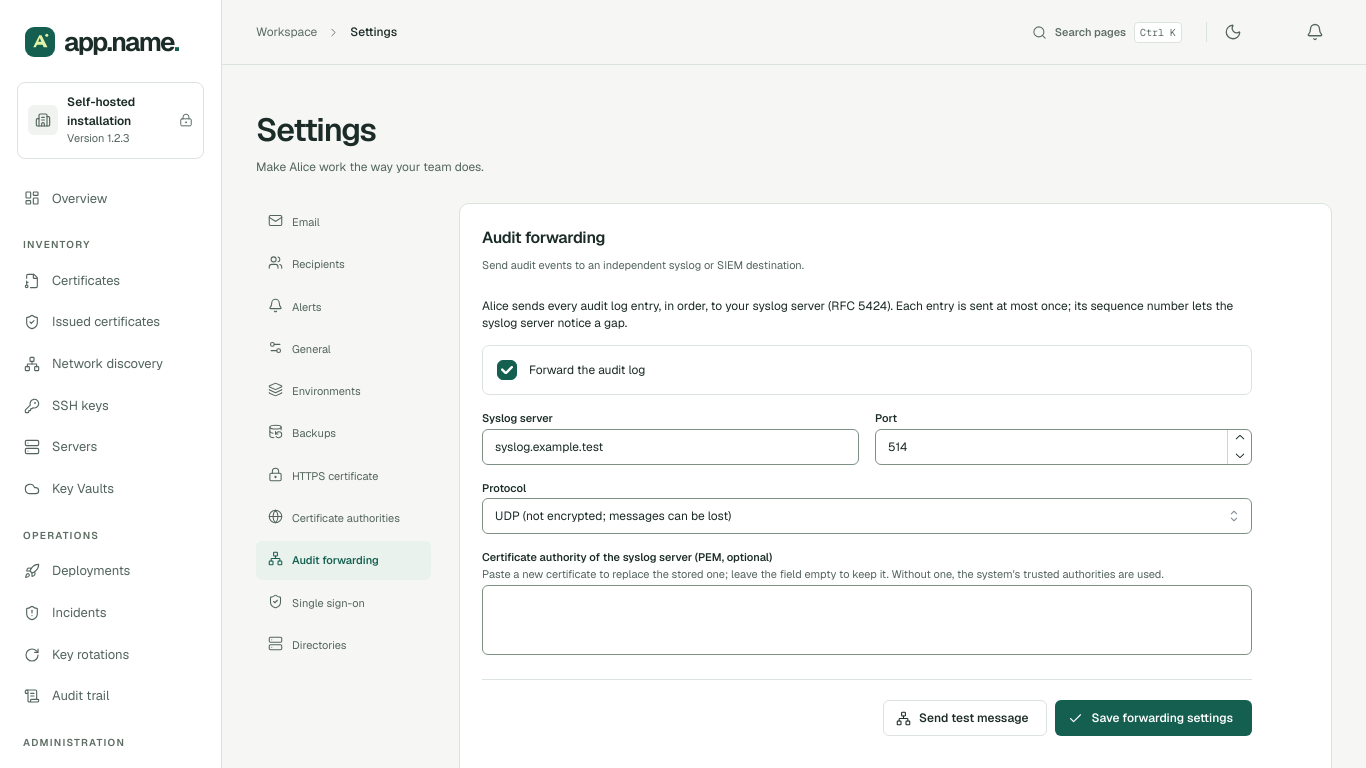
ForwardingTab › sends a test message with the form as it is
This screenshot has width=1366, height=768.
Click the button "Send test message" at (965, 718), box x1=883 y1=700 x2=1048 y2=736
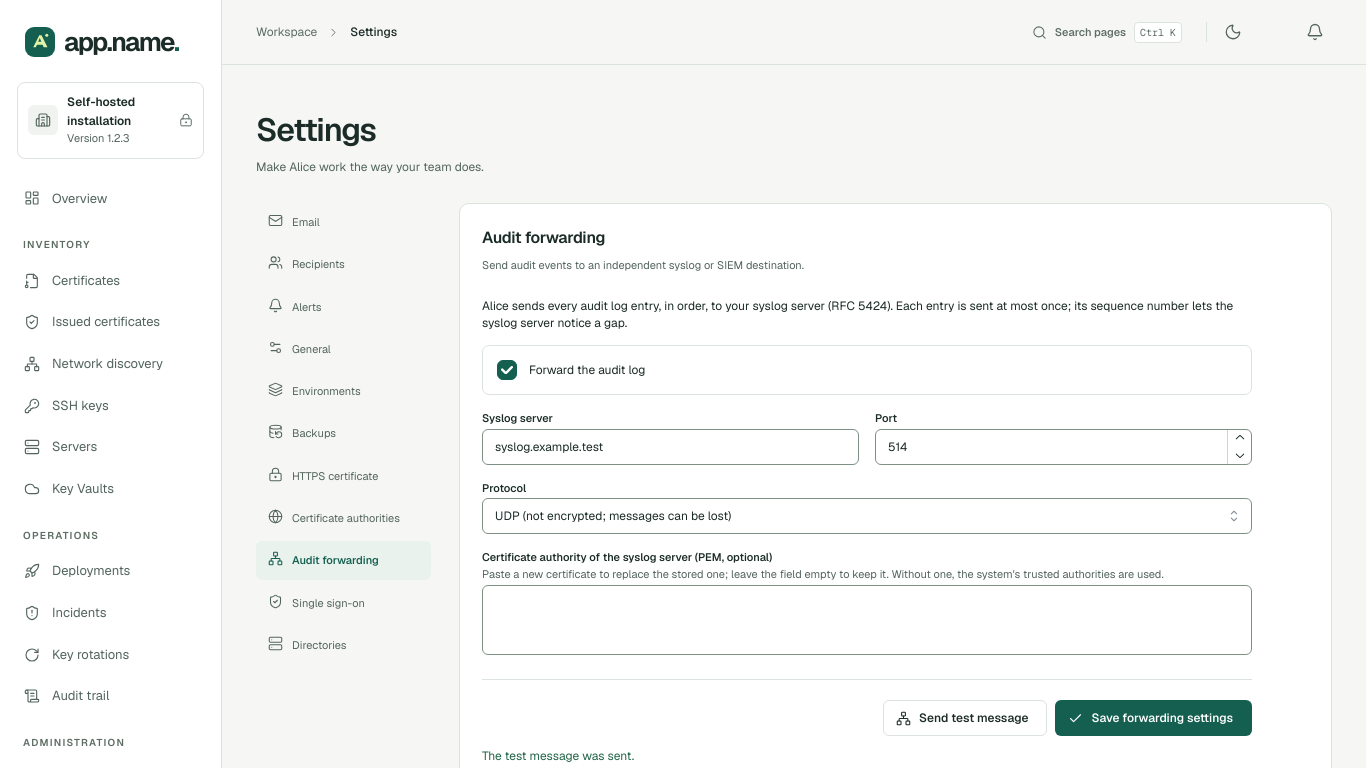
Expected: the text "The test message was sent." is shown, x1=482 y1=748 x2=634 y2=764
